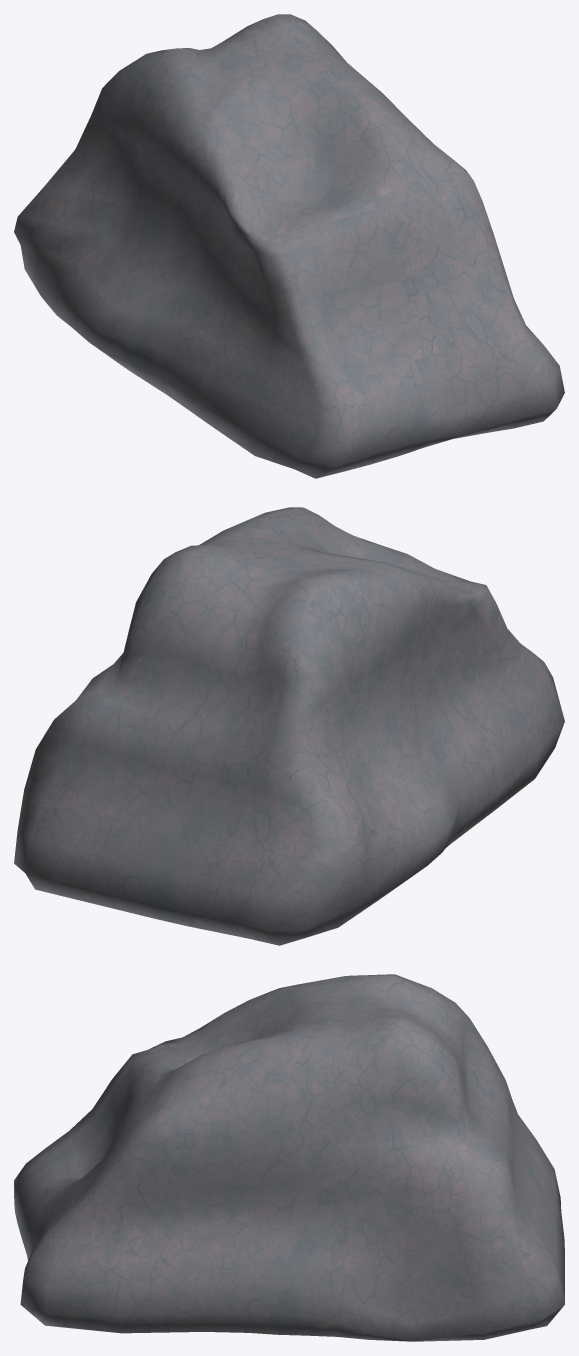
Rendered from Rock_2.fbx.
The picture shows the model from 3 angles, top to bottom: view 1: azimuth 30°, elevation 25°; view 2: azimuth 150°, elevation 25°; view 3: azimuth 270°, elevation 25°; orthographic projection. The views are drawn at different scales.
Visible parts, largest first — view 1: Rock_2; view 2: Rock_2; view 3: Rock_2.
Part boxes in pixels (x1,y1,x2,y2): Rock_2: [14, 14, 564, 478]; Rock_2: [14, 507, 564, 945]; Rock_2: [14, 974, 564, 1341].
Bounding box in the file's own units: 38.79 × 34 × 61.19.
